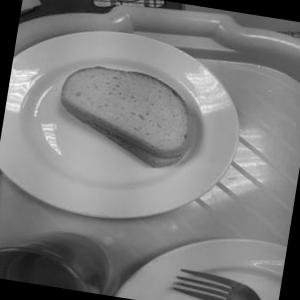bread: (32, 37, 218, 182)
